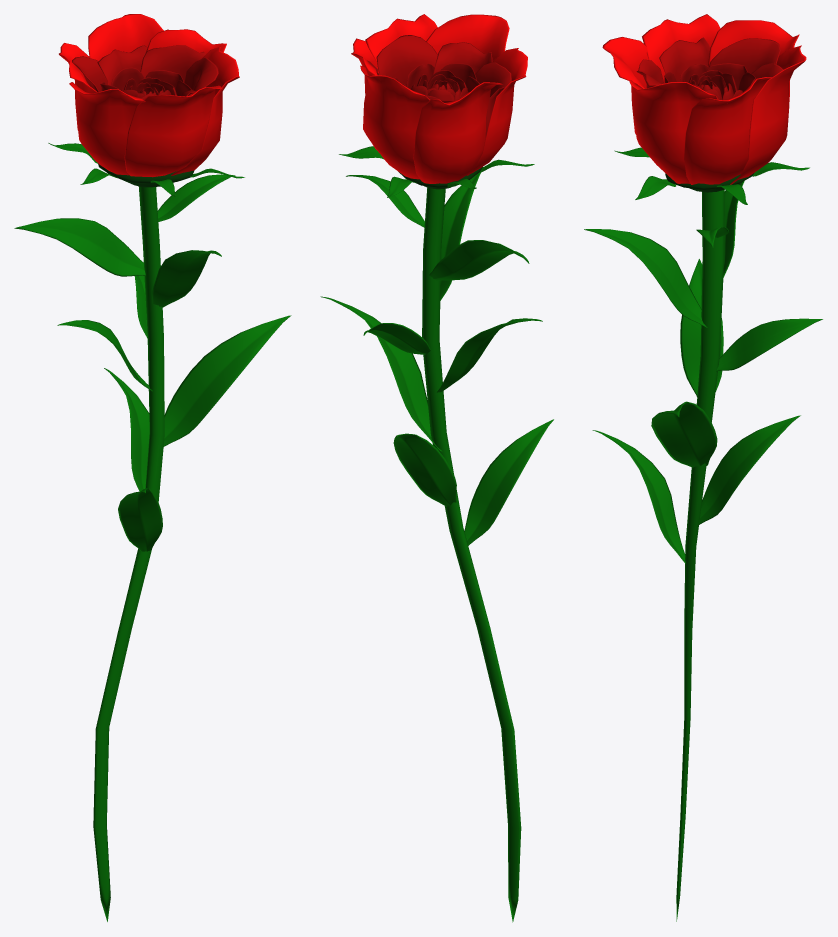
File: rose.fbx
3 views of the same model, side by side, from view 1: azimuth 30°, elevation 25°; view 2: azimuth 150°, elevation 25°; view 3: azimuth 270°, elevation 25° (orthographic). The views are drawn at different scales.
Visible parts, largest first — view 1: Plane_021; view 2: Plane_021; view 3: Plane_021.
Part boxes in pixels (<box>): Plane_021: <box>14,14,291,921</box>; Plane_021: <box>320,14,553,922</box>; Plane_021: <box>584,14,822,921</box>.
Size of the model in its own units: 3.33 by 11.22 by 2.69.
